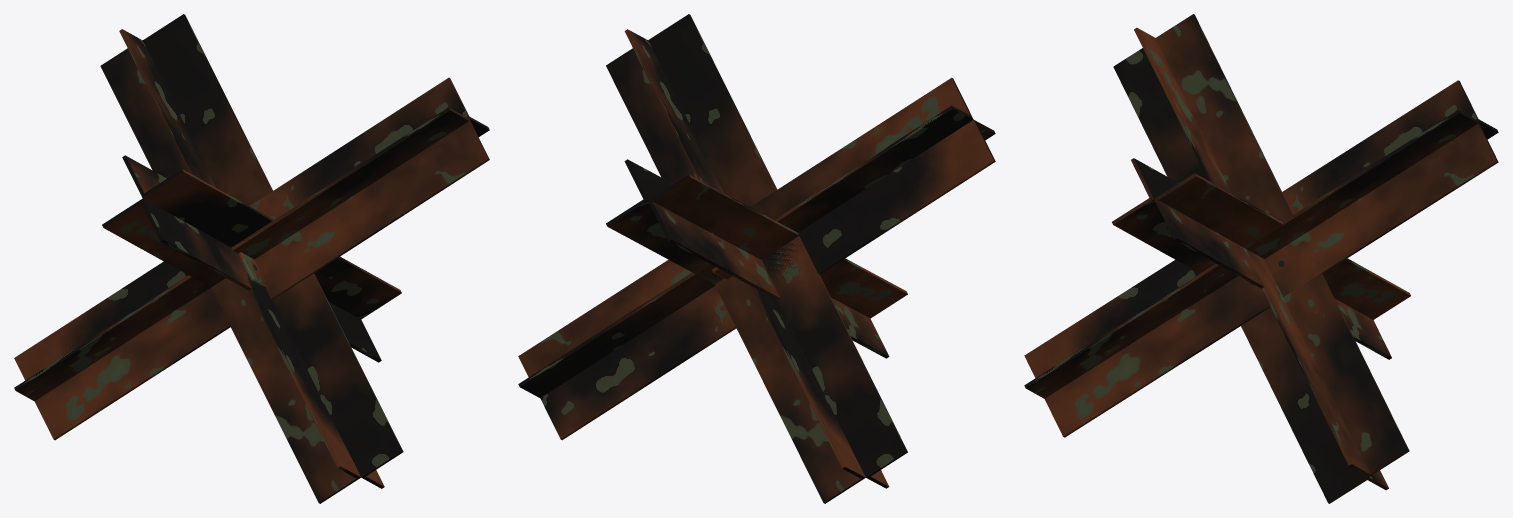
File: S7U_Hedgehog.fbx
3 renders of one model, left to right at view 1: azimuth 30°, elevation 25°; view 2: azimuth 150°, elevation 25°; view 3: azimuth 270°, elevation 25°, orthographic.
Parts seen in each view (by area): view 1: S7U_Hedgehog; view 2: S7U_Hedgehog; view 3: S7U_Hedgehog.
Boxes of the visible parts, <box> form: S7U_Hedgehog: <box>14,14,489,503</box>; S7U_Hedgehog: <box>518,14,995,503</box>; S7U_Hedgehog: <box>1024,14,1498,503</box>.
Size of the model in its own units: 1.43 by 1.18 by 1.52.
